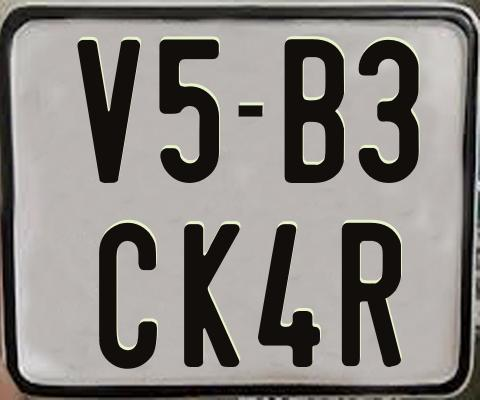3: (359, 40, 419, 189)
4: (255, 224, 320, 368)
5: (157, 37, 223, 184)
B: (282, 36, 345, 182)
C: (99, 222, 160, 370)
K: (181, 223, 238, 370)
R: (339, 223, 399, 367)
V: (77, 37, 145, 180)
